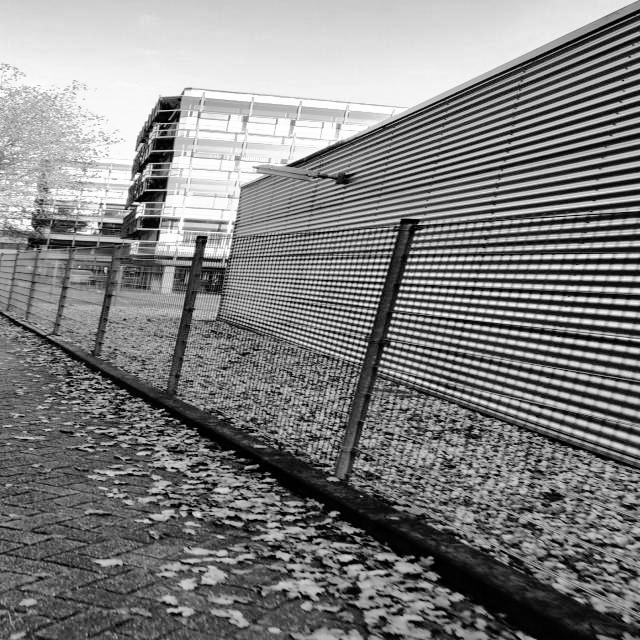fences: (410, 223, 640, 594), (123, 242, 399, 470), (4, 256, 93, 337)
